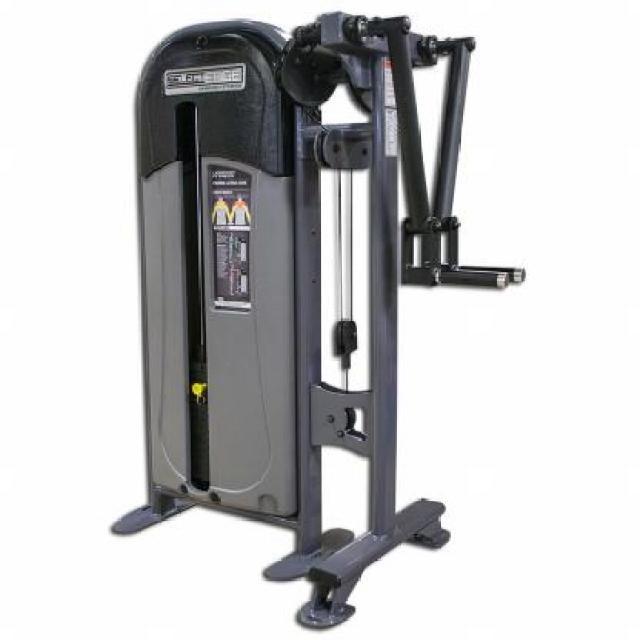lateral raises machine: (106, 11, 525, 629)
